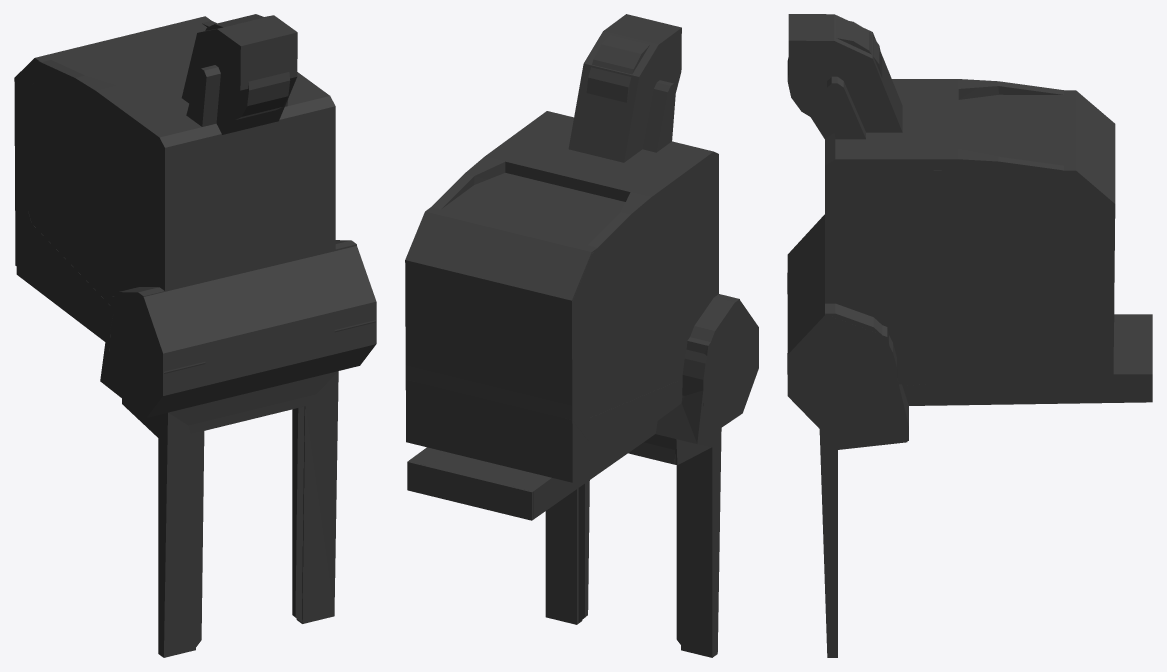
3 renders of one model, left to right at view 1: azimuth 30°, elevation 25°; view 2: azimuth 150°, elevation 25°; view 3: azimuth 270°, elevation 25°, orthographic. The views are drawn at different scales.
Visible parts, largest first — view 1: world; view 2: world; view 3: world.
Boxes of the visible parts, bbox=[...] form: world: bbox=[14, 14, 376, 657]; world: bbox=[405, 14, 758, 657]; world: bbox=[787, 14, 1152, 657].
Size of the model in its own units: 74.49 by 204 by 115.
1 material, 1 textured.
